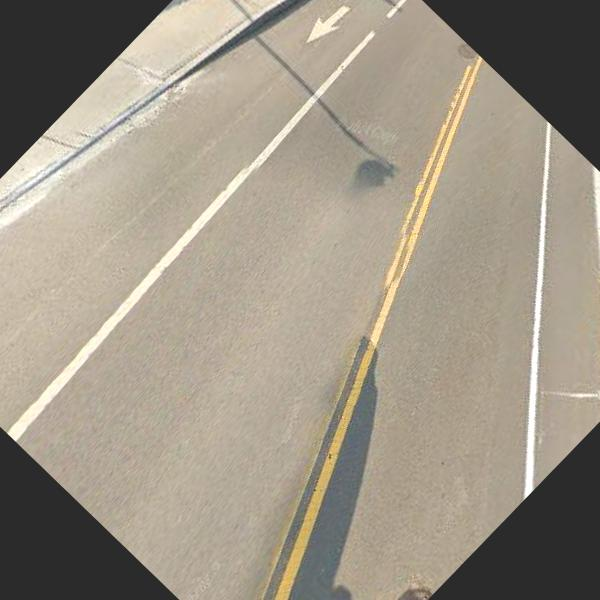manhole: (356, 570, 439, 600), (446, 34, 480, 68)
